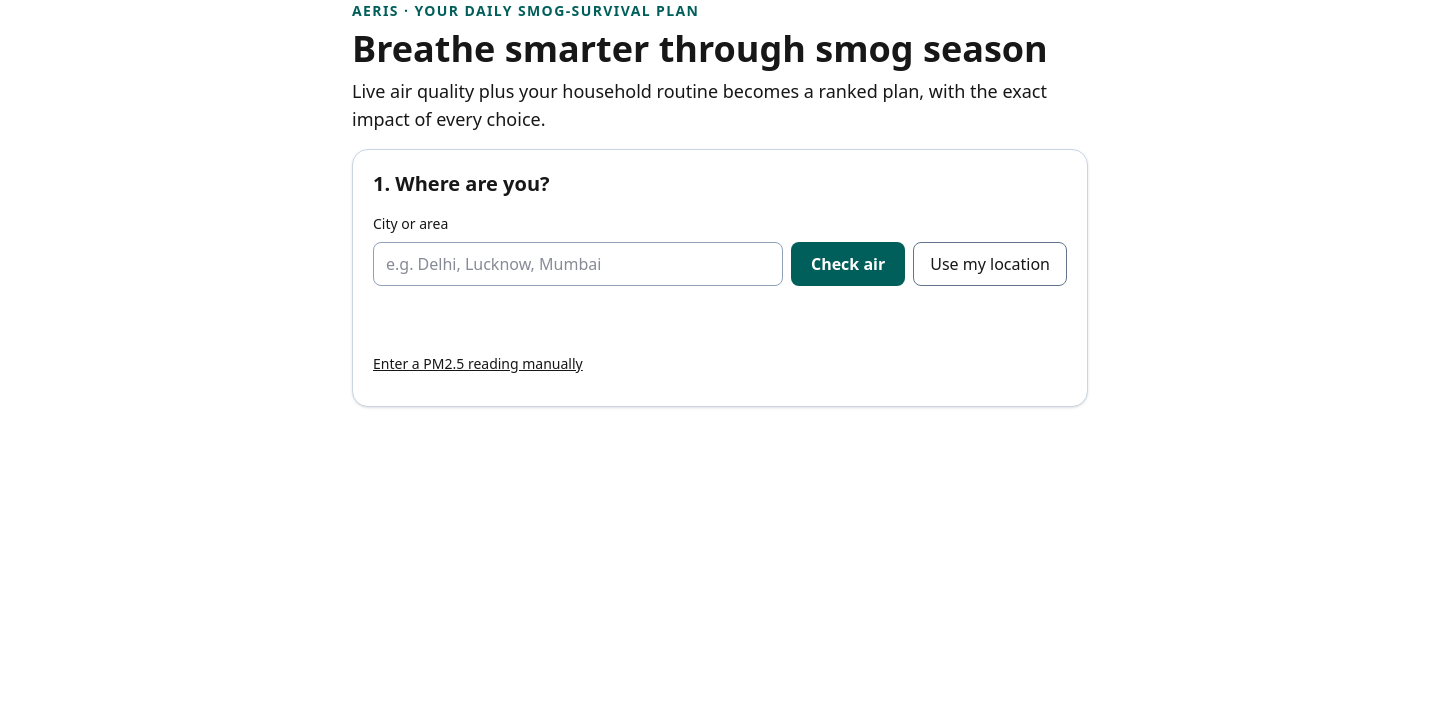
Test: household form › sends the edited profile with the plan request
Type "Delhi" into the field labelled "City or area" at (578, 264), box x1=373 y1=242 x2=783 y2=286
Click the button "Check air" at (848, 264), box x1=791 y1=242 x2=905 y2=286
(page scrolled)
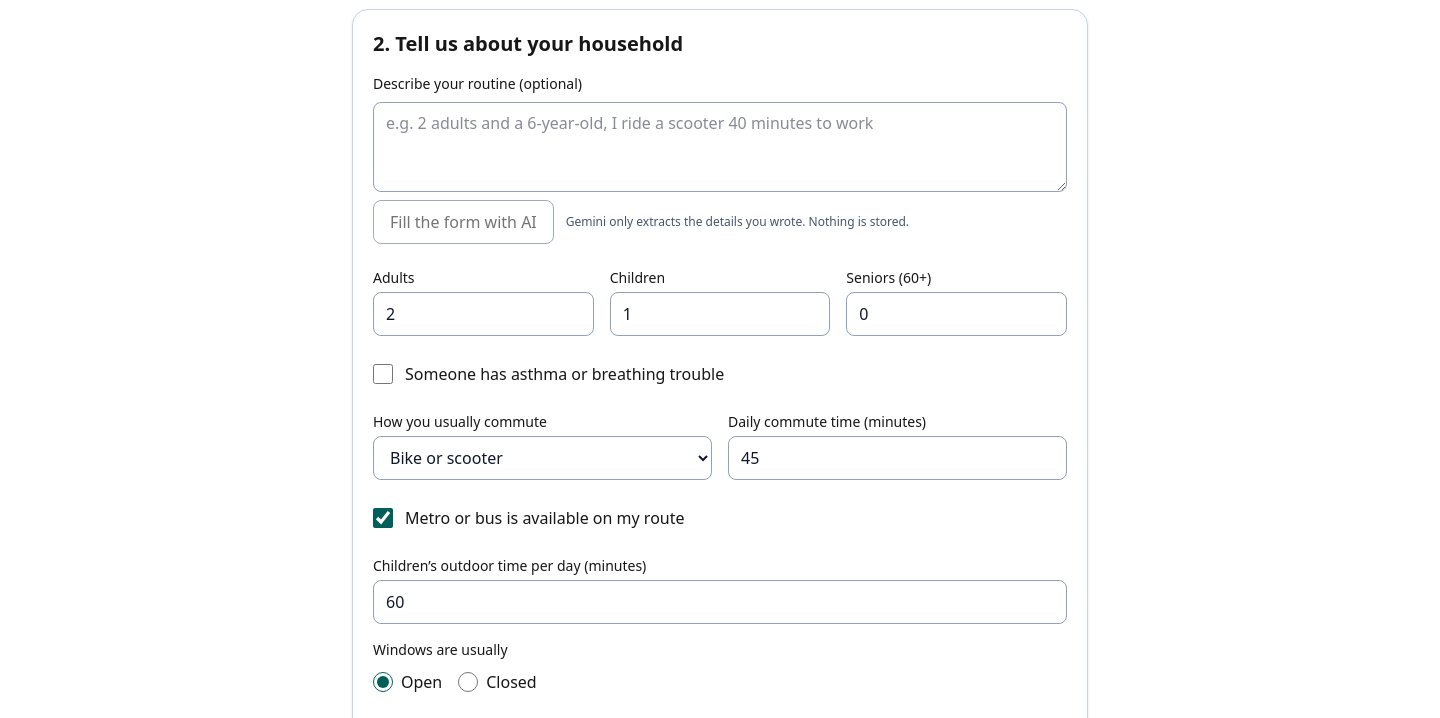
Replace the text in the number field labelled "Children" with "3" at (720, 314), box x1=610 y1=292 x2=830 y2=336
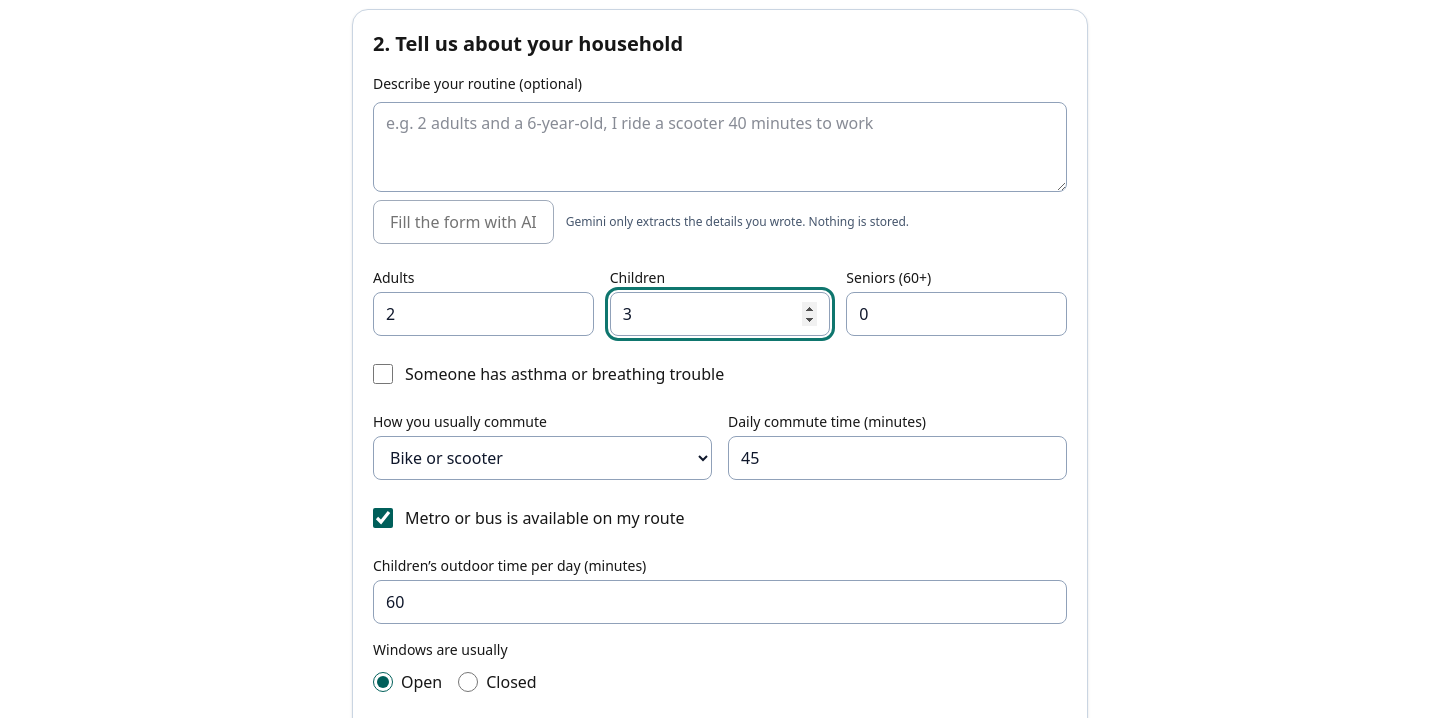
Select "Car" in the dropdown labelled "How you usually commute" at (542, 458), box x1=373 y1=436 x2=712 y2=480
(page scrolled)
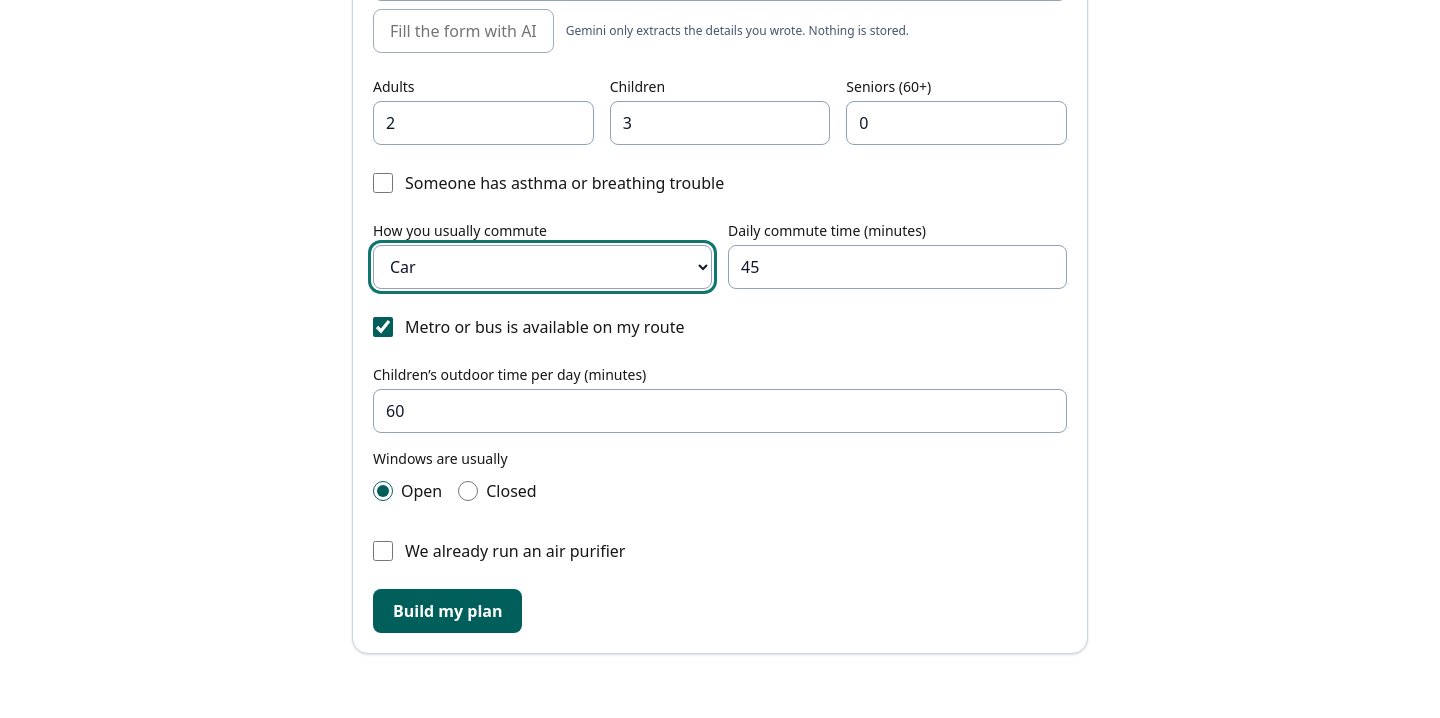
Click the checkbox labelled "We already run an air purifier" at (383, 550), box x1=373 y1=540 x2=393 y2=560
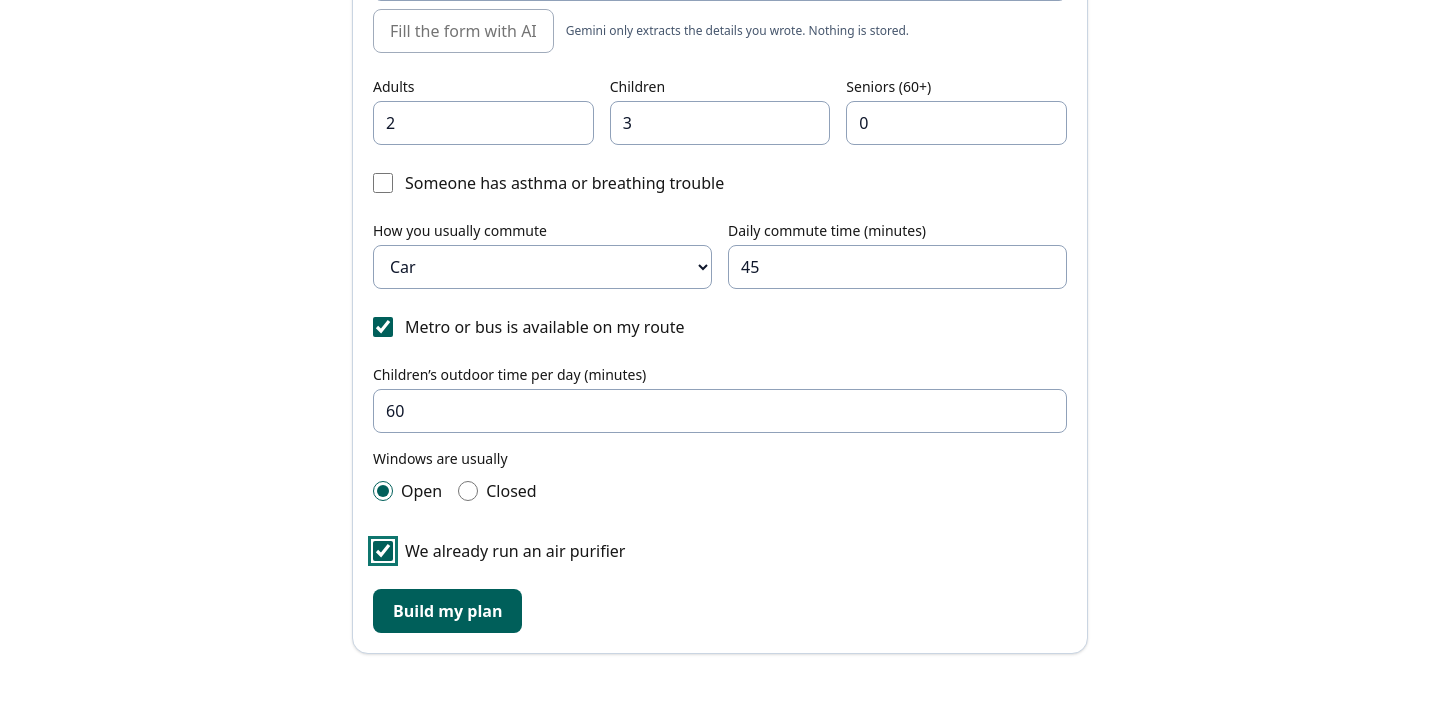
Click the radio button labelled "Closed" at (468, 490), box x1=458 y1=480 x2=478 y2=500
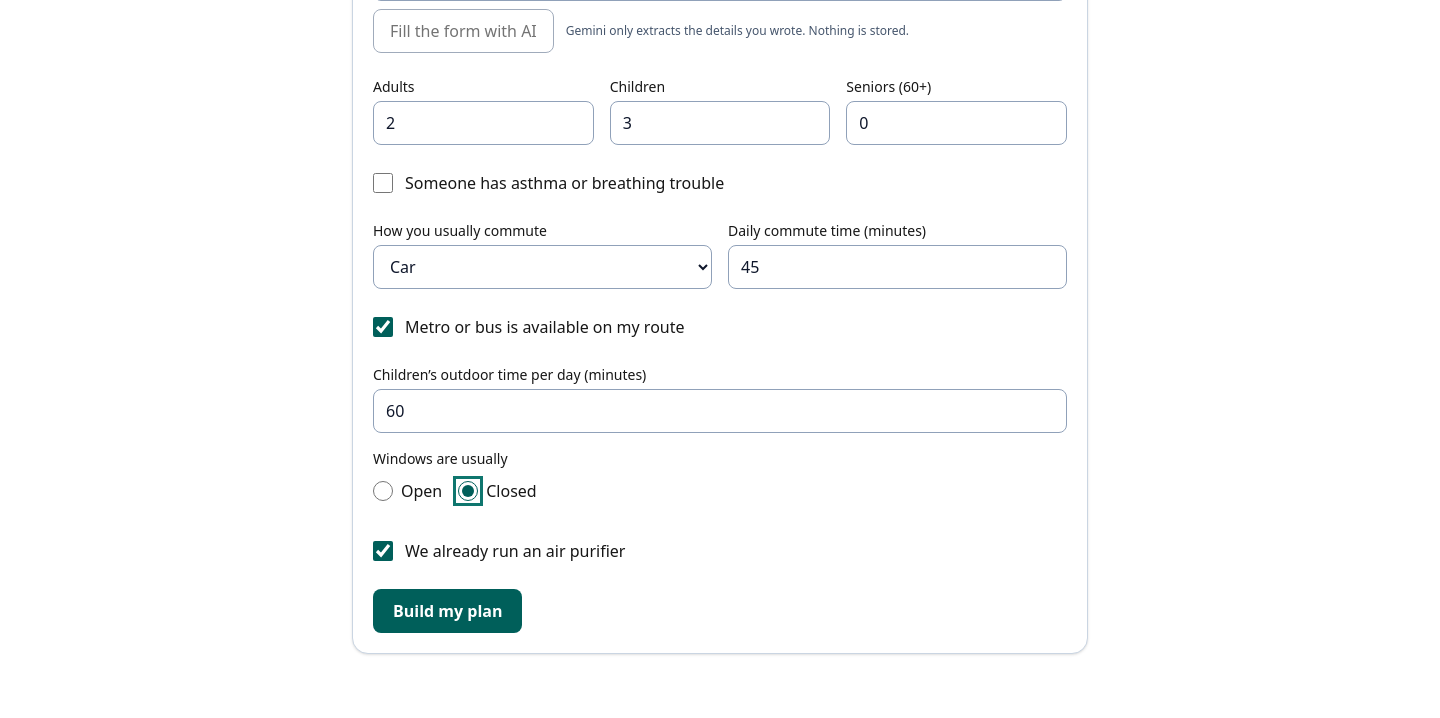
Click the button "Build my plan" at (448, 610), box x1=373 y1=588 x2=522 y2=632
(page scrolled)
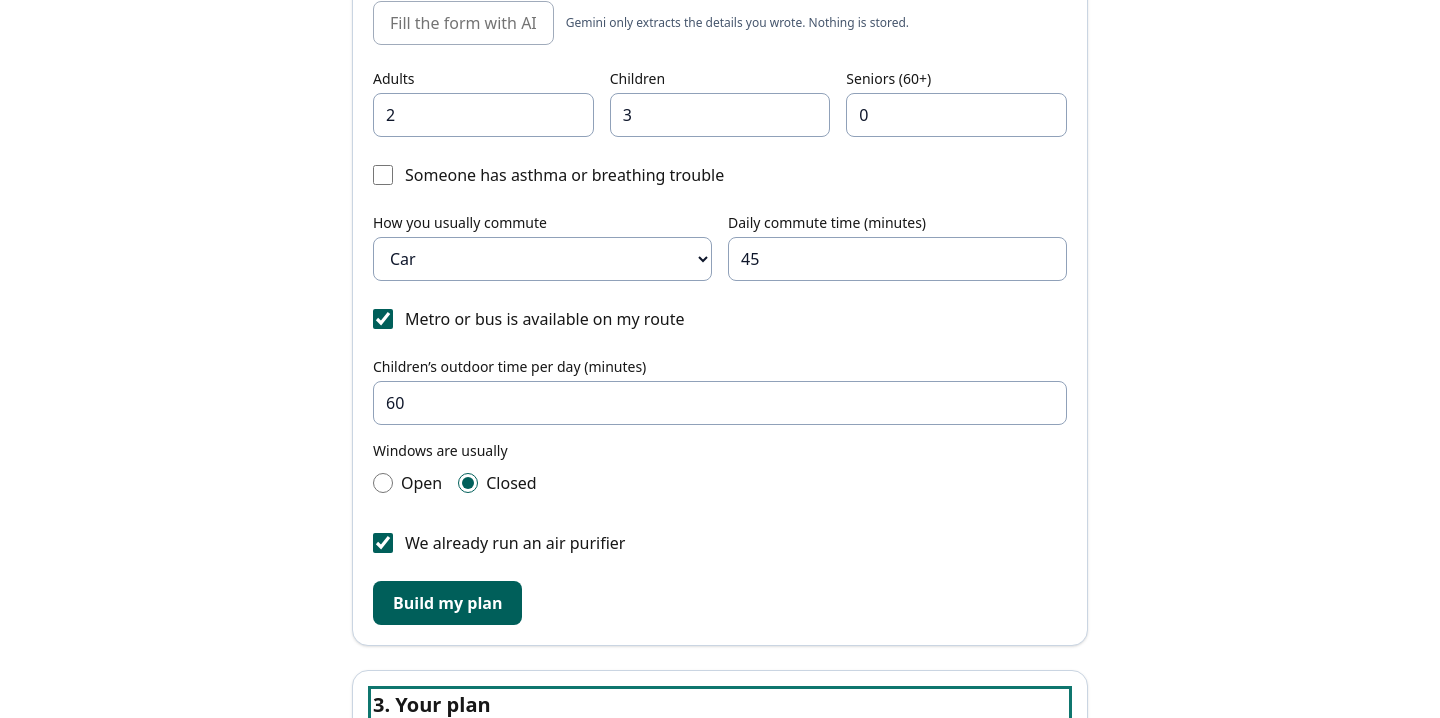
Expected: the heading "3. Your plan" is shown, x1=373 y1=690 x2=491 y2=717
